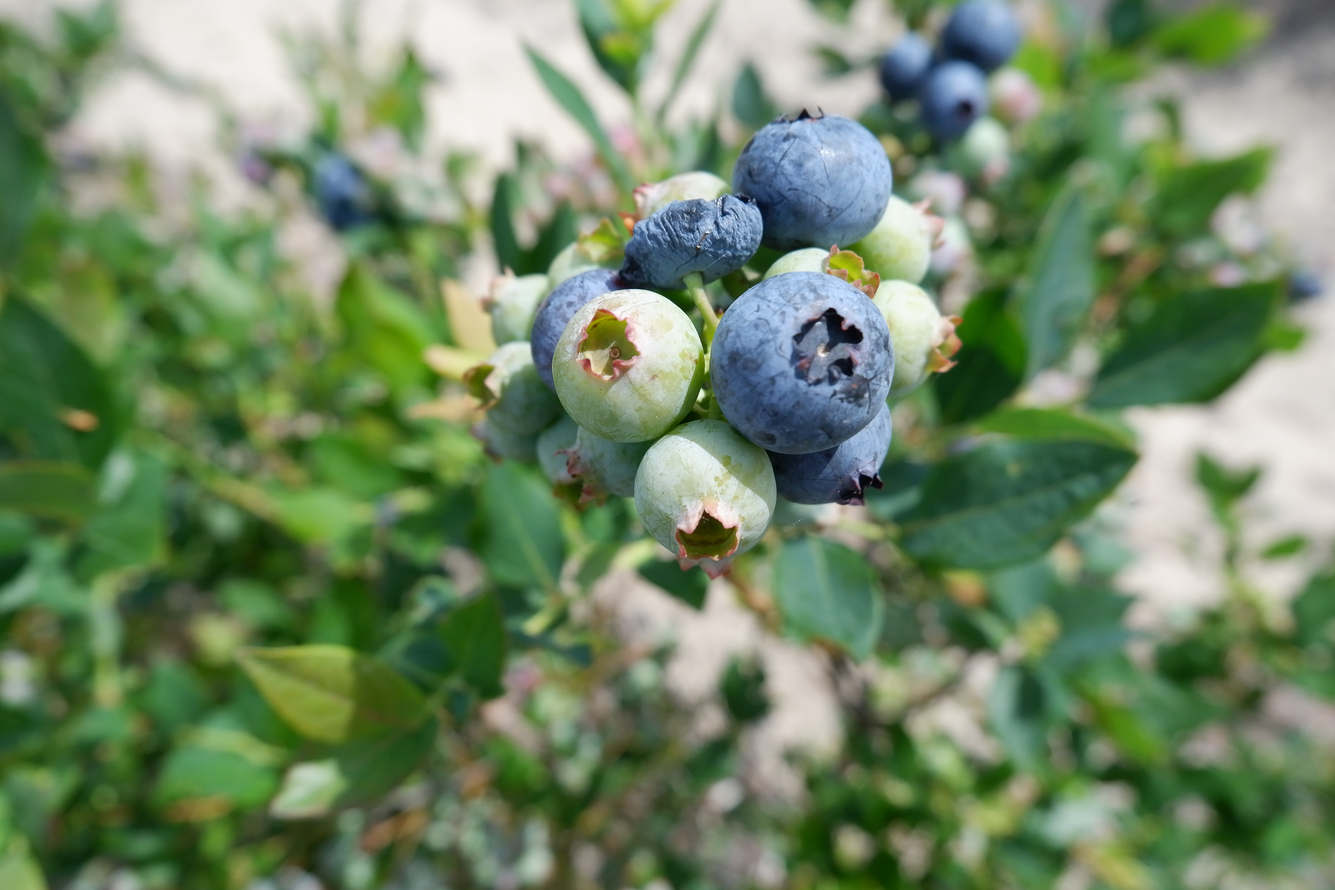Immature: (554, 289, 705, 440), (639, 423, 775, 579), (462, 345, 560, 462), (878, 282, 960, 390), (852, 197, 940, 281), (548, 217, 627, 296), (562, 427, 647, 500), (536, 409, 591, 513), (763, 250, 879, 298), (483, 273, 548, 342)
Mature: (715, 269, 895, 449), (733, 116, 892, 249), (627, 197, 762, 288), (534, 269, 628, 385), (775, 411, 889, 502), (637, 174, 724, 218)
